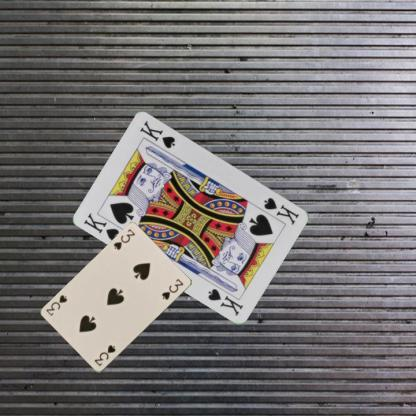3s: (111, 226, 136, 252), (92, 342, 117, 367)
Ks: (261, 194, 301, 227), (81, 210, 121, 242)
